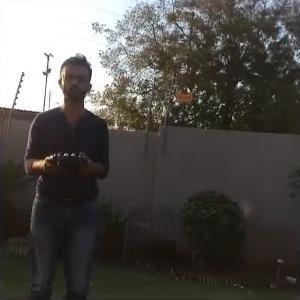follow: (21, 50, 112, 299)
